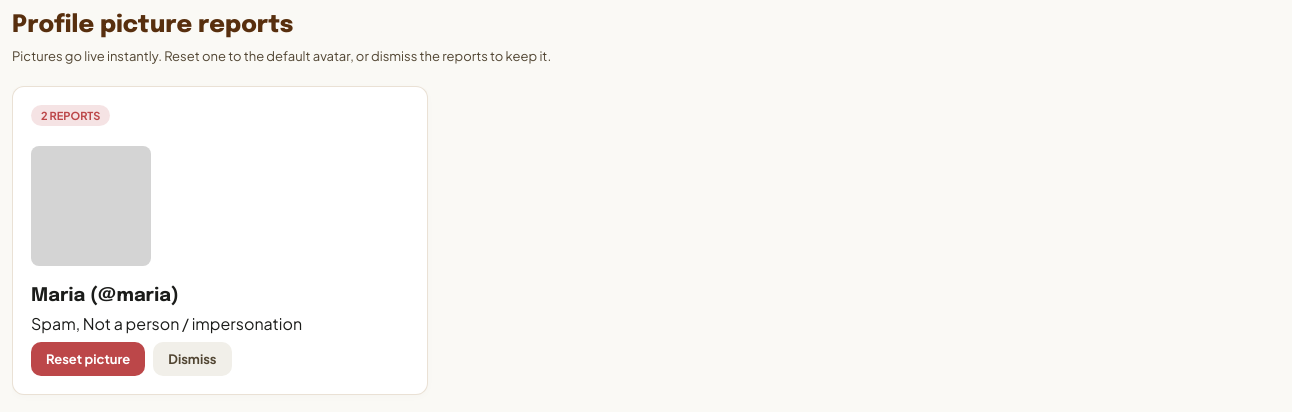
AvatarReportsPage › lists open reports and resets a picture
Expected: the heading "Maria (@maria)" is shown, [31, 286, 179, 305]
Expected: the text "2 reports" is shown, [31, 105, 110, 126]
Click the button "Reset picture".
click(88, 359)  # box [31, 342, 145, 376]
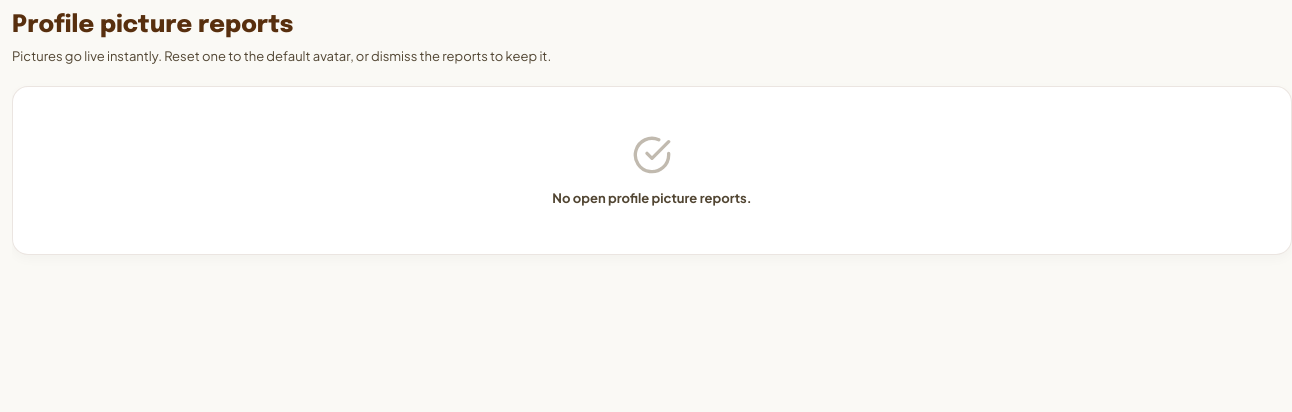
Expected: the text "No open profile picture reports." is shown, [552, 190, 752, 206]
